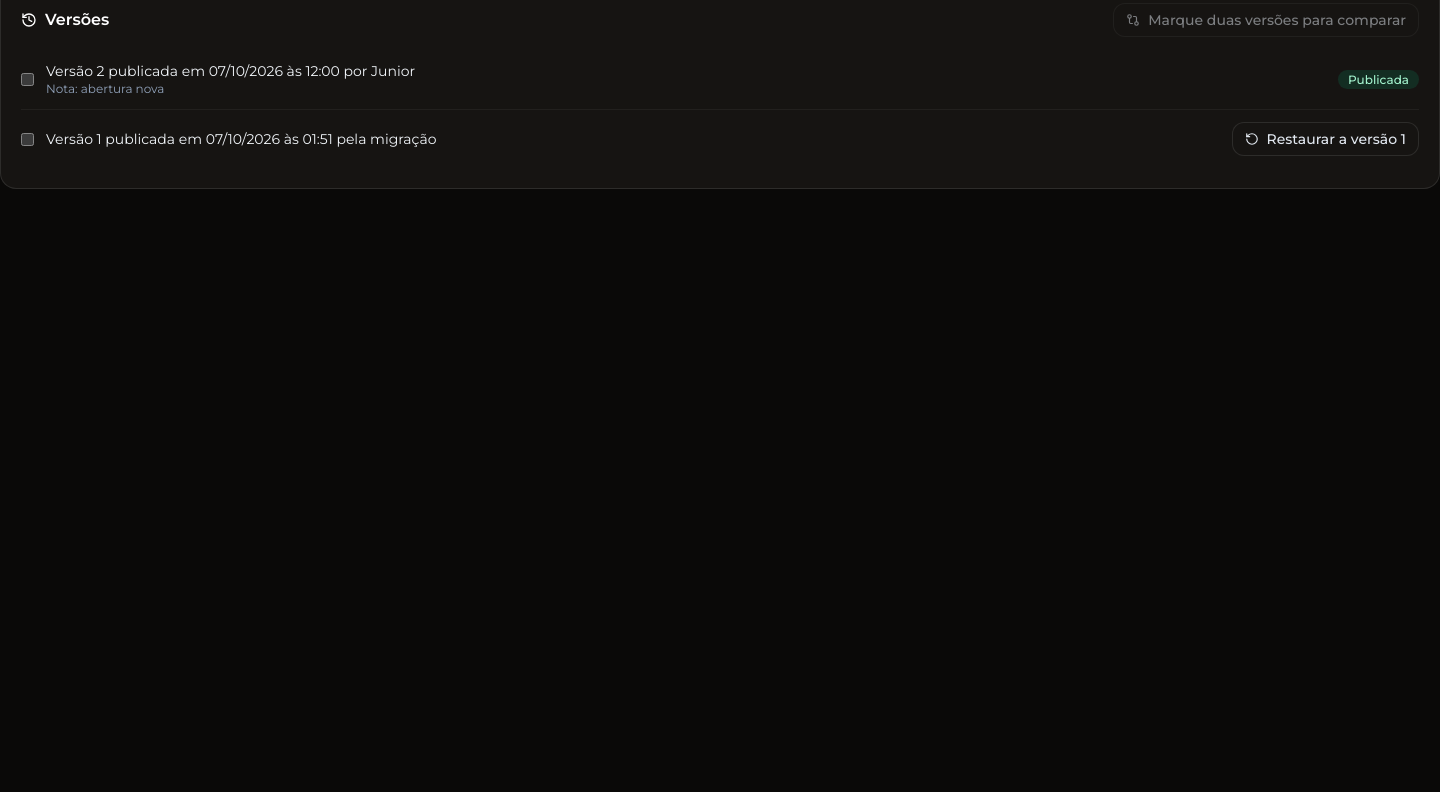
Scenario: HistoricoDeVersoes › texto grande demais para destacar: as duas versões aparecem lado a lado, inteiras
The image size is (1440, 792).
Expected: the text "Versão 2 publicada em 07/10/2026 às 12:00 por Junior" is shown, top-left (46, 62), bottom-right (415, 80)
Click the checkbox named "Comparar a versão 1". click: (28, 139)
box: top-left (21, 132), bottom-right (34, 146)
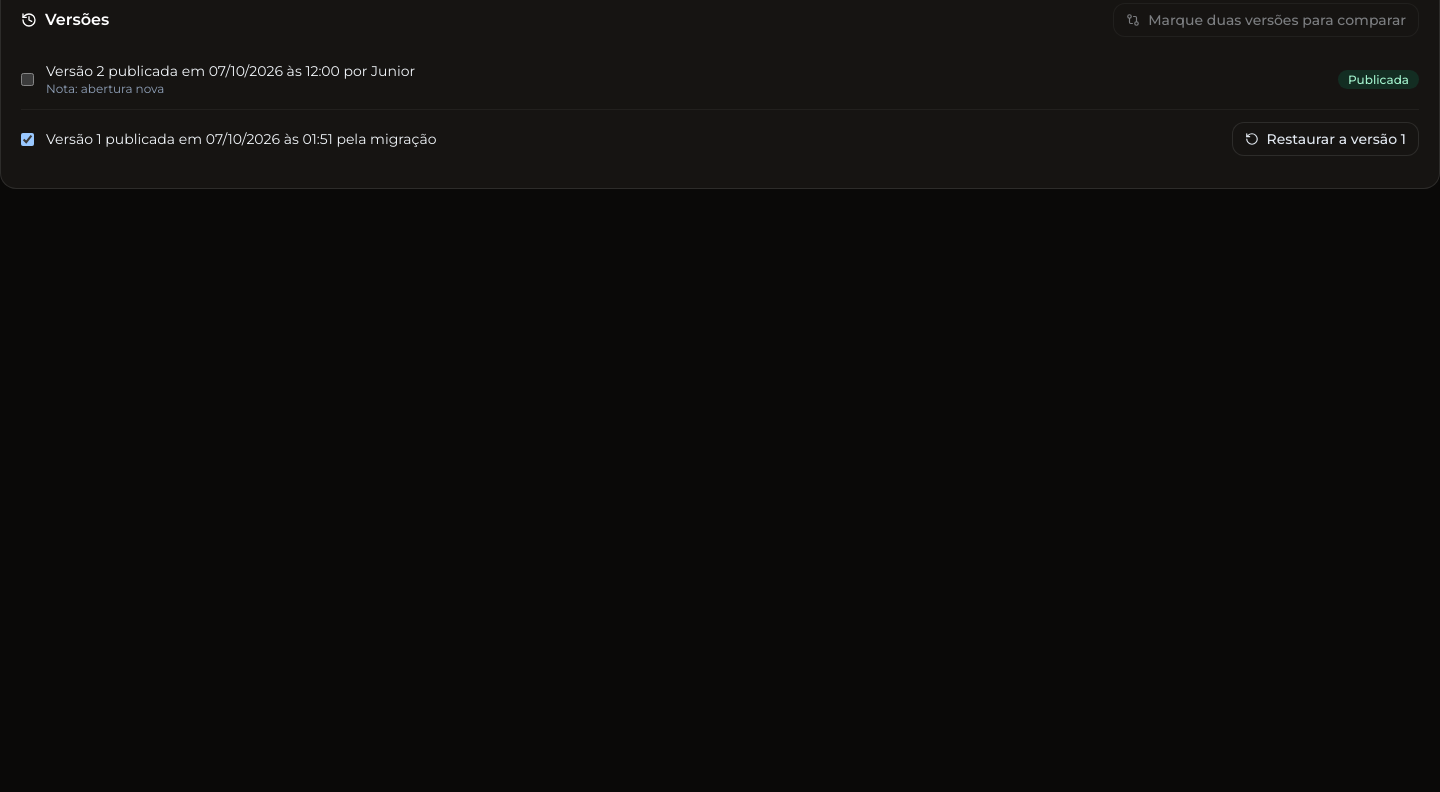
Click the checkbox named "Comparar a versão 2". click: (28, 79)
box: top-left (21, 72), bottom-right (34, 86)
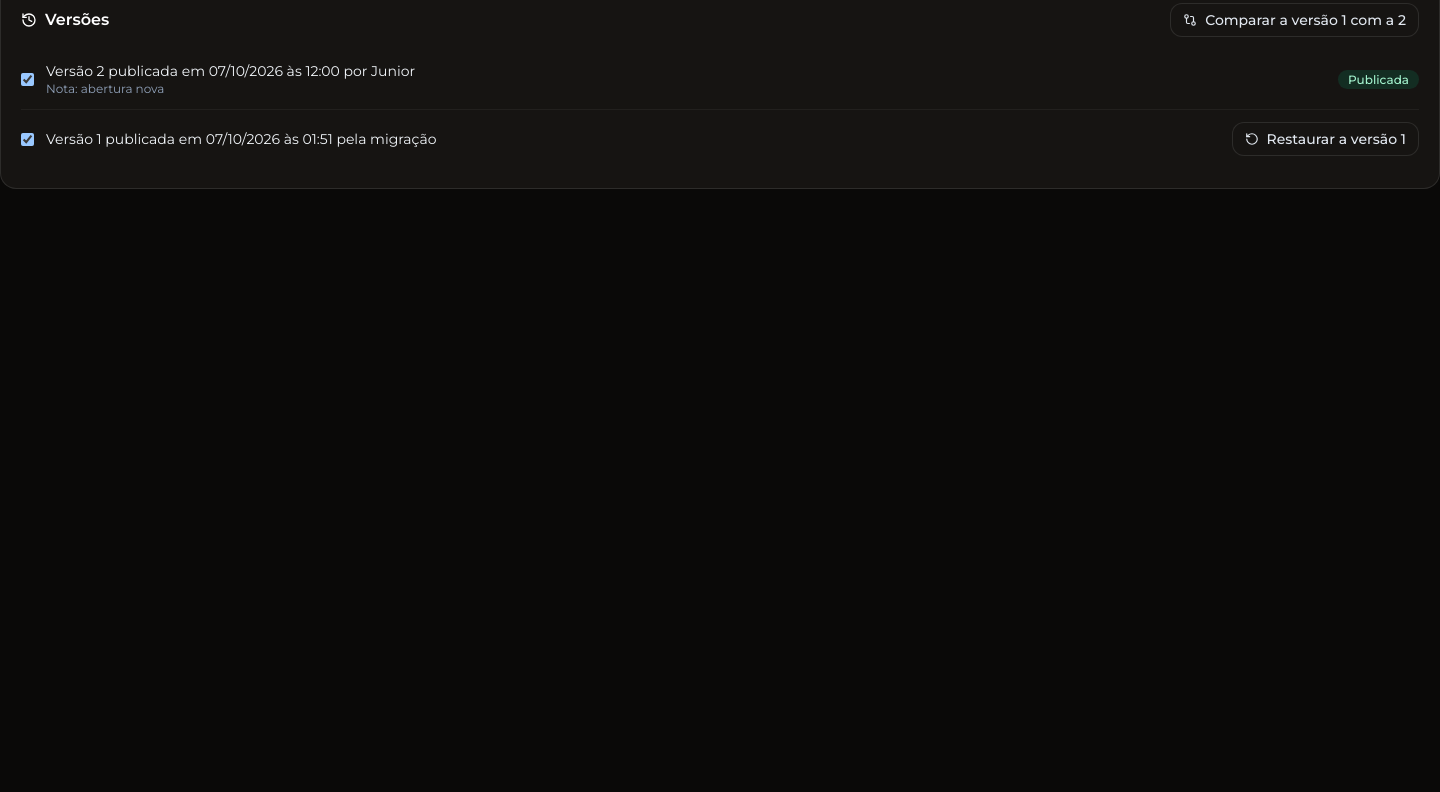
Click the button "Comparar a versão 1 com a 2". click: (1295, 20)
box: top-left (1170, 3), bottom-right (1419, 37)
(page scrolled)
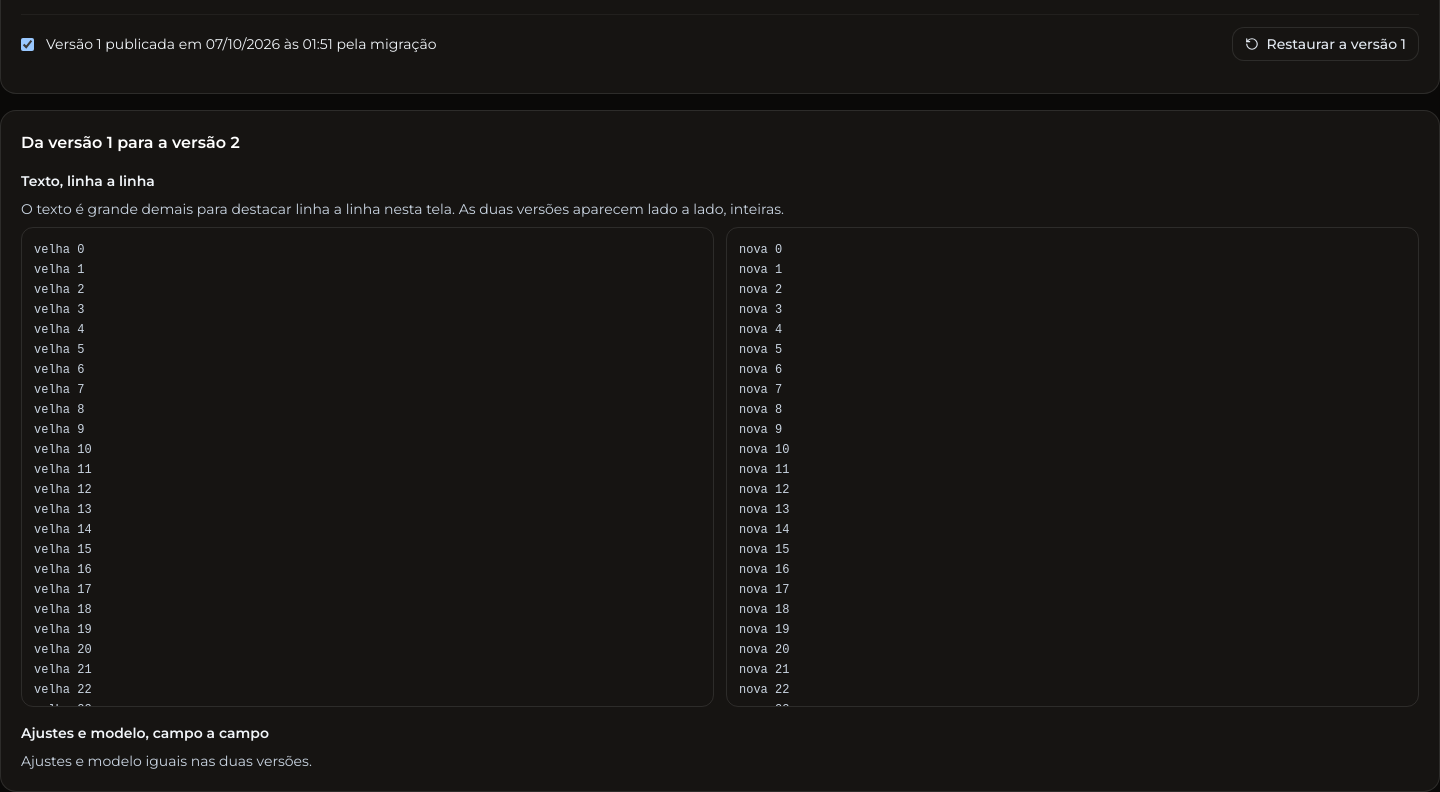
Expected: the text "grande demais para destacar linha a linha" is shown, top-left (21, 200), bottom-right (784, 218)
